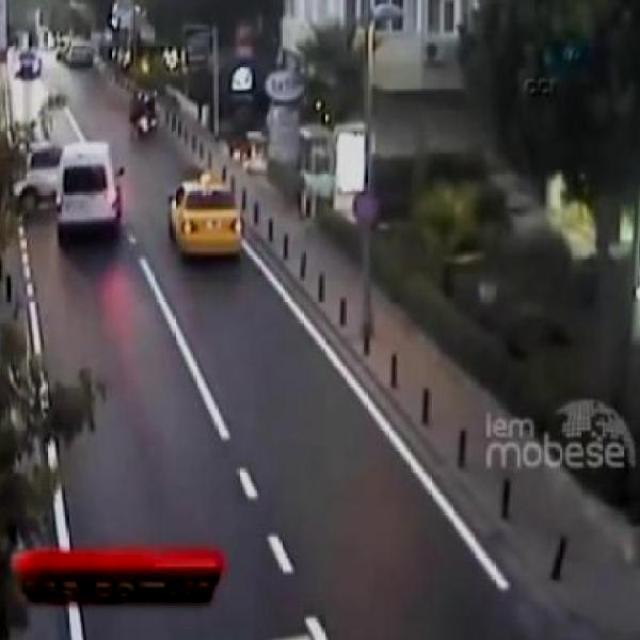accident: (10, 131, 130, 255)
